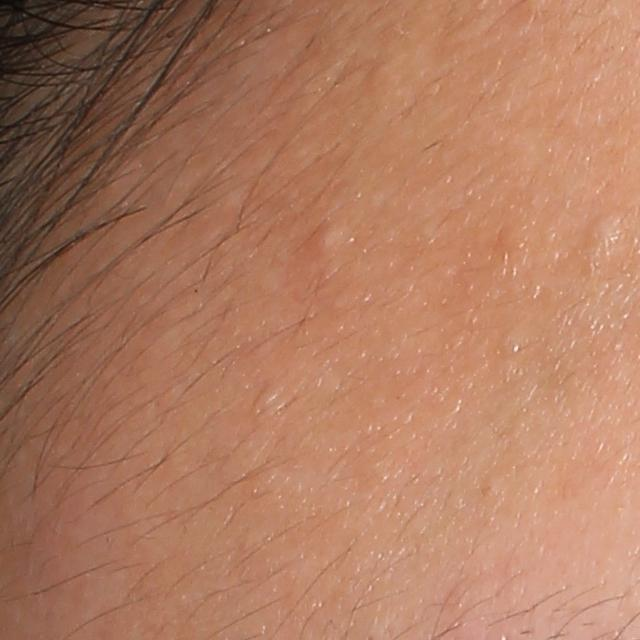comedo: (246, 376, 283, 410), (588, 210, 621, 247), (309, 229, 341, 255)
